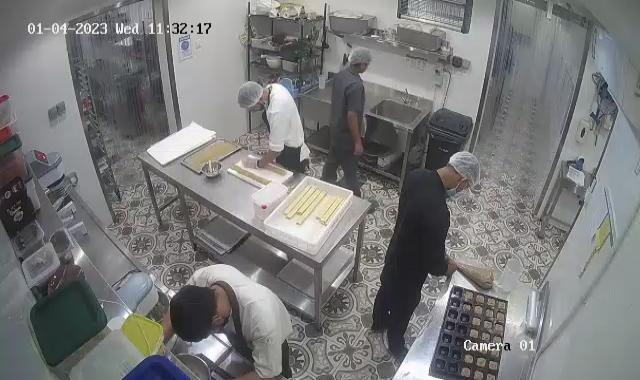hairnet: (448, 146, 480, 192), (236, 79, 264, 111), (347, 47, 372, 68)
no_hairnet: (170, 284, 222, 344)
